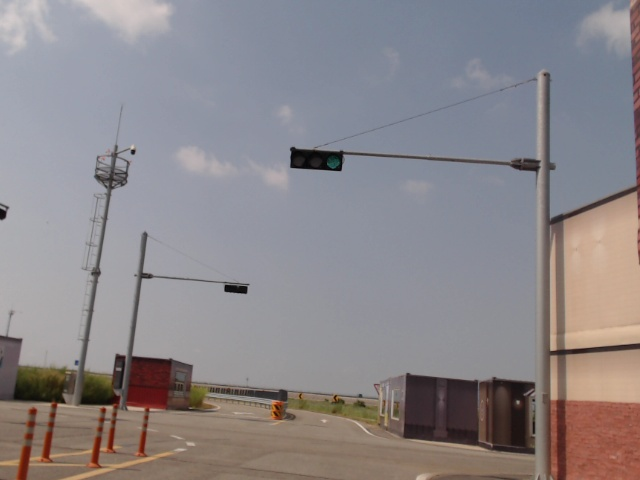green_3: (290, 147, 343, 172)
